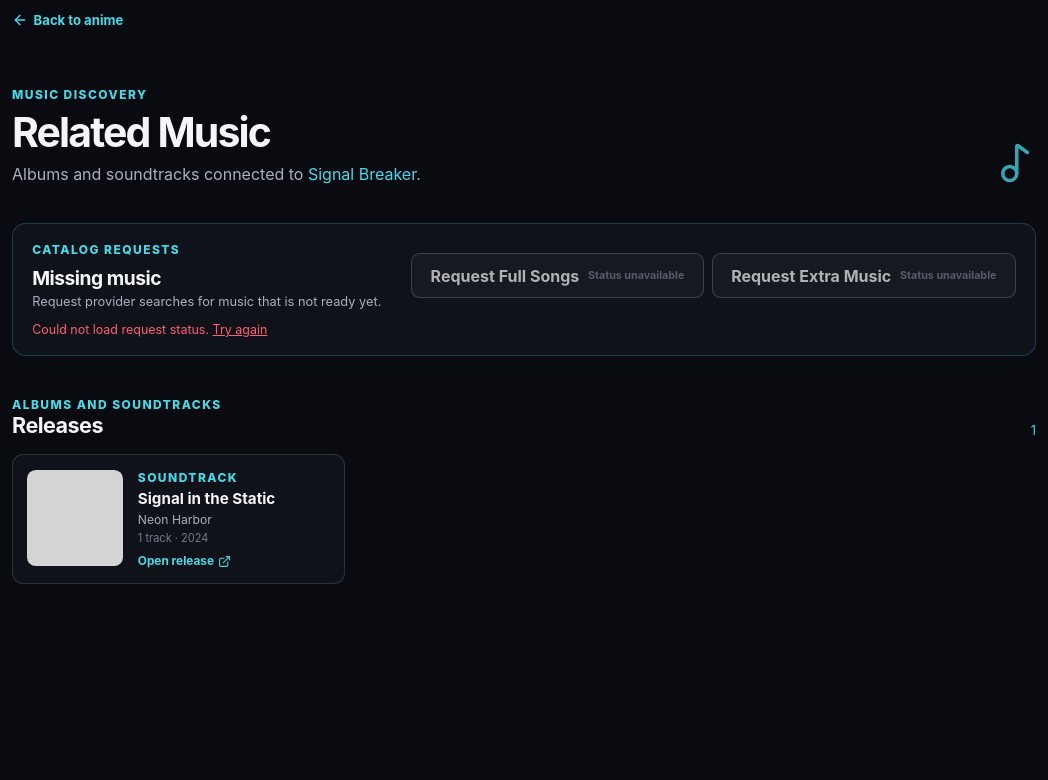
Test case: related music page › surfaces request-status failures and retries the status query
The image size is (1048, 780).
Expected: the text "Could not load request status. Try again" is shown, top-left (32, 322), bottom-right (267, 337)
Click the button "Try again" at (240, 330), box top-left (213, 322), bottom-right (267, 337)
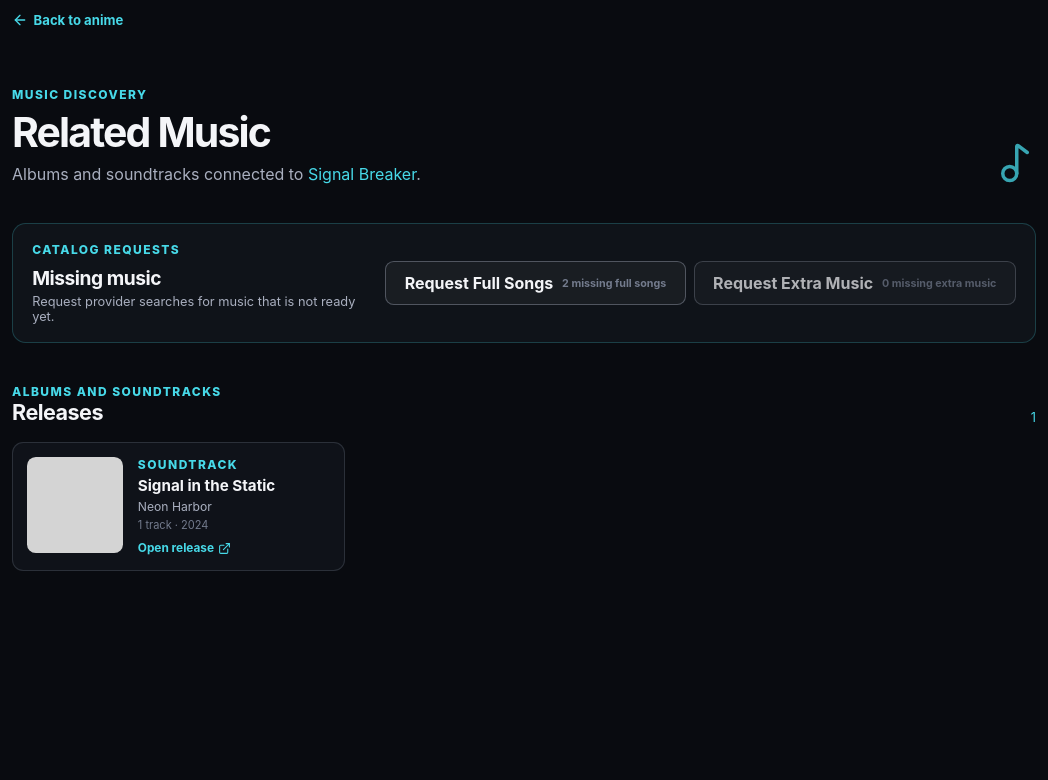
Result: the button "Request Full Songs 2 missing full songs" is enabled at top-left (385, 261), bottom-right (686, 305)
